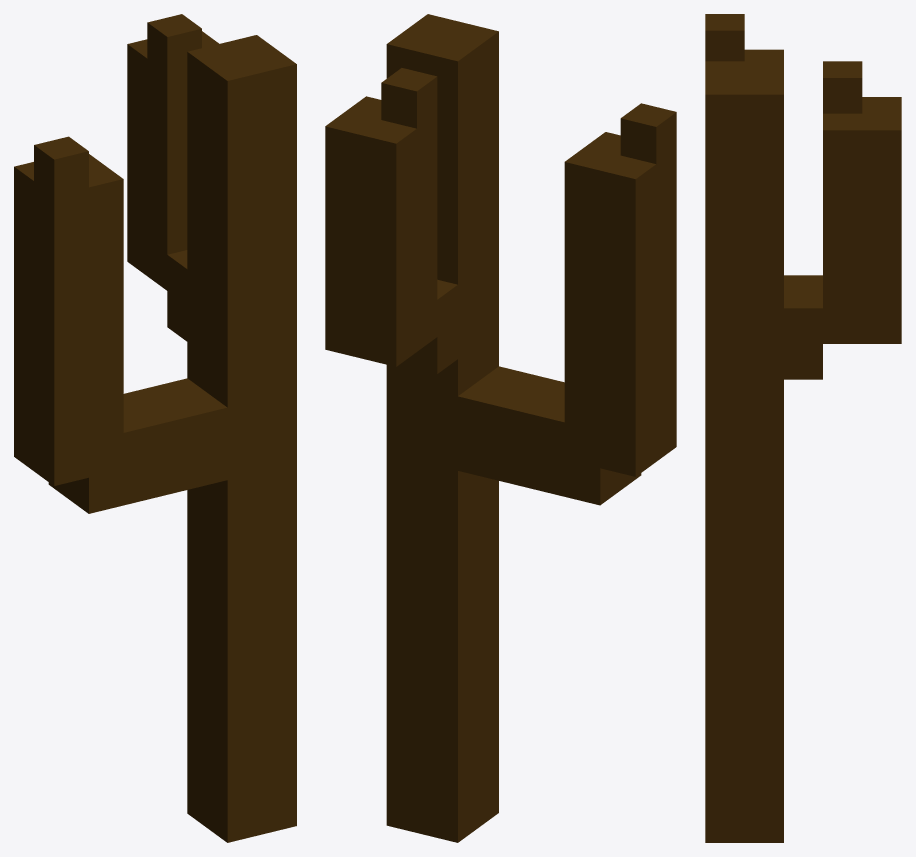
Rendered from Dead Tree 02.obj.
The picture shows the model from 3 angles, left to right: view 1: azimuth 30°, elevation 25°; view 2: azimuth 150°, elevation 25°; view 3: azimuth 270°, elevation 25°; orthographic projection. The views are drawn at different scales.
Bounding box in the file's own units: 0.7 × 2.1 × 0.5.
Materials: 1 (1 with a texture image).
